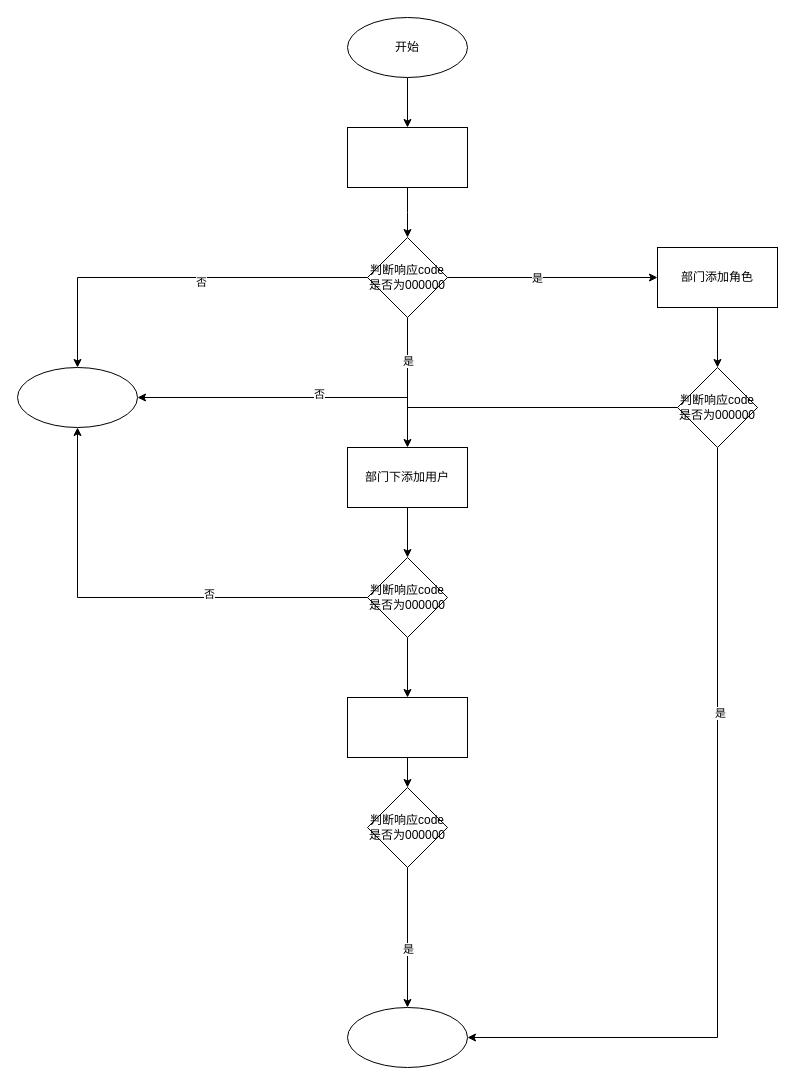
Image size: 795x1085. Some labels were removed from this diagram. Each missing label, with the centre of its shape:
"流程结束，返回成功信息" goes at (407,1037).
"流程结束，返回错误信息" goes at (77,397).
"添加新部门" goes at (407,157).
"用户添加角色" goes at (407,727).
